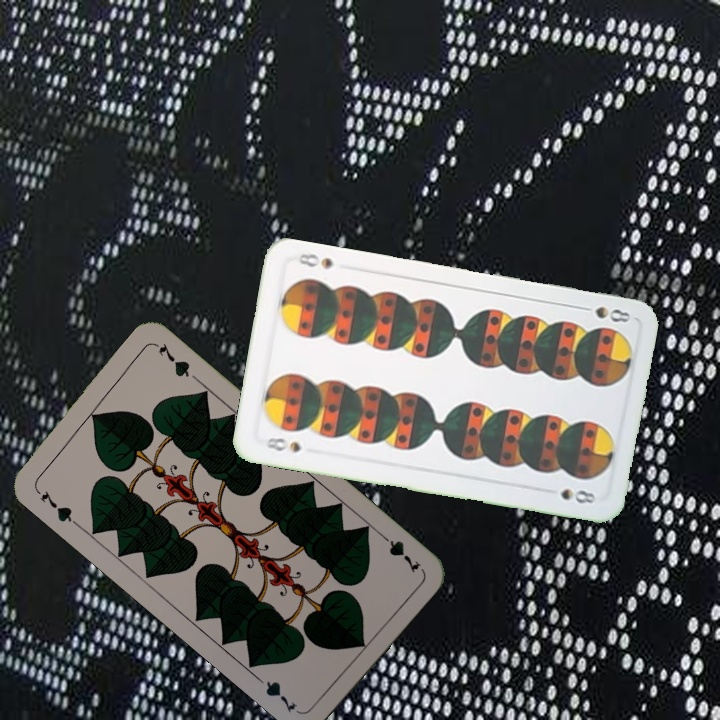G7: (374, 528, 423, 576), (31, 484, 80, 528)
S8: (574, 302, 633, 325), (261, 433, 304, 455)
